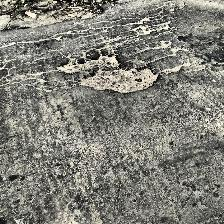pothole: (55, 53, 159, 93)
